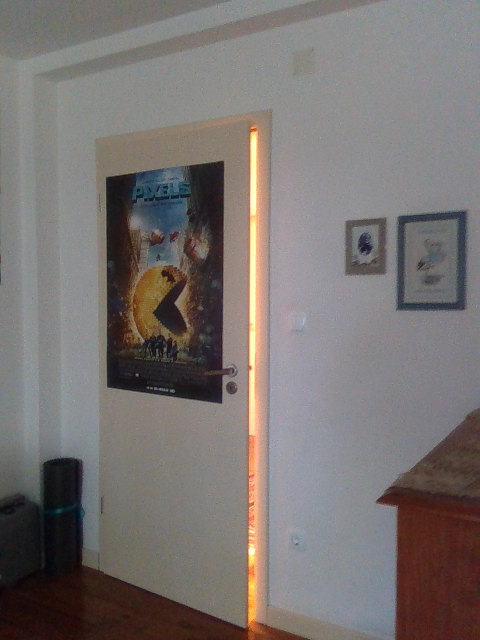closed: (98, 117, 267, 625)
